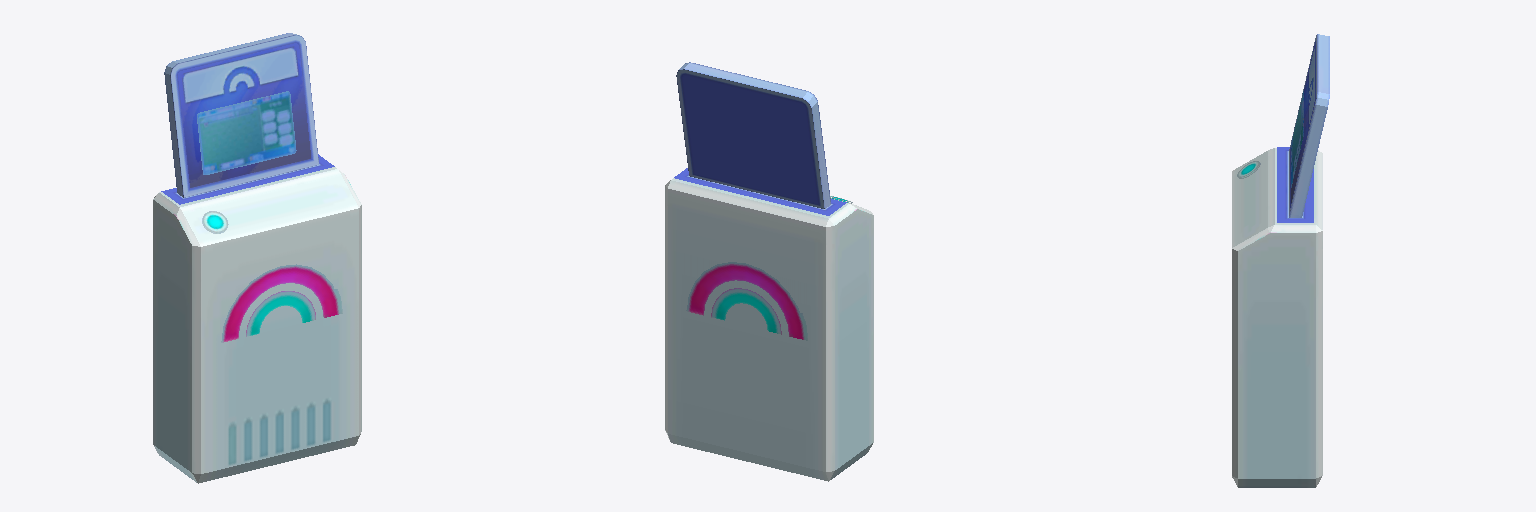
3 views of the same model, side by side, from view 1: azimuth 30°, elevation 25°; view 2: azimuth 150°, elevation 25°; view 3: azimuth 270°, elevation 25° (orthographic).
Parts seen in each view (by area): view 1: com_bm_pc02_com_bm_pc02_com_bm_pc02_pc03.tga; view 2: com_bm_pc02_com_bm_pc02_com_bm_pc02_pc03.tga; view 3: com_bm_pc02_com_bm_pc02_com_bm_pc02_pc03.tga.
Boxes of the visible parts, <box> form: com_bm_pc02_com_bm_pc02_com_bm_pc02_pc03.tga: <box>153,33,361,483</box>; com_bm_pc02_com_bm_pc02_com_bm_pc02_pc03.tga: <box>665,62,873,481</box>; com_bm_pc02_com_bm_pc02_com_bm_pc02_pc03.tga: <box>1232,34,1329,487</box>.
Size of the model in its own units: 1.37 by 2.98 by 0.7001.
4 materials, 1 textured.